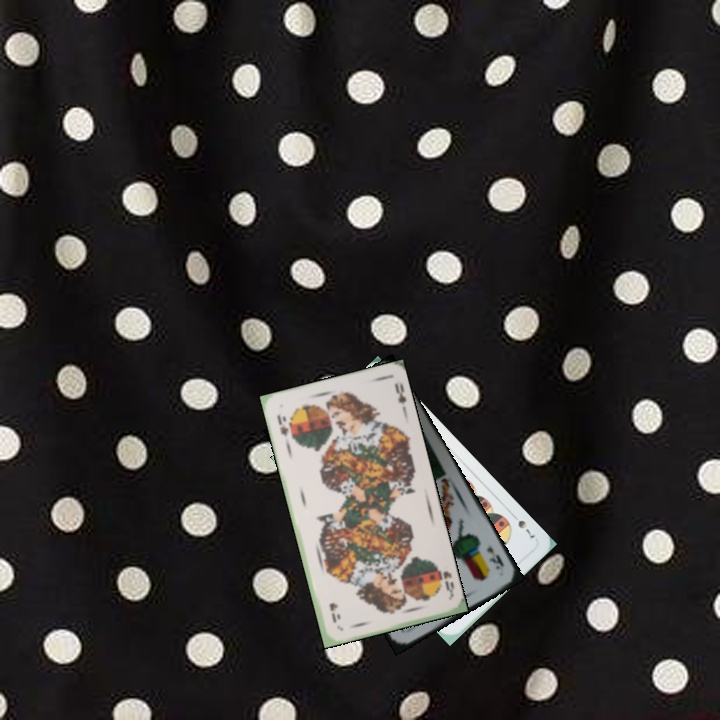EK: (482, 543, 506, 572)
S7: (514, 516, 538, 541)
SO: (431, 561, 457, 599), (273, 411, 291, 439)
